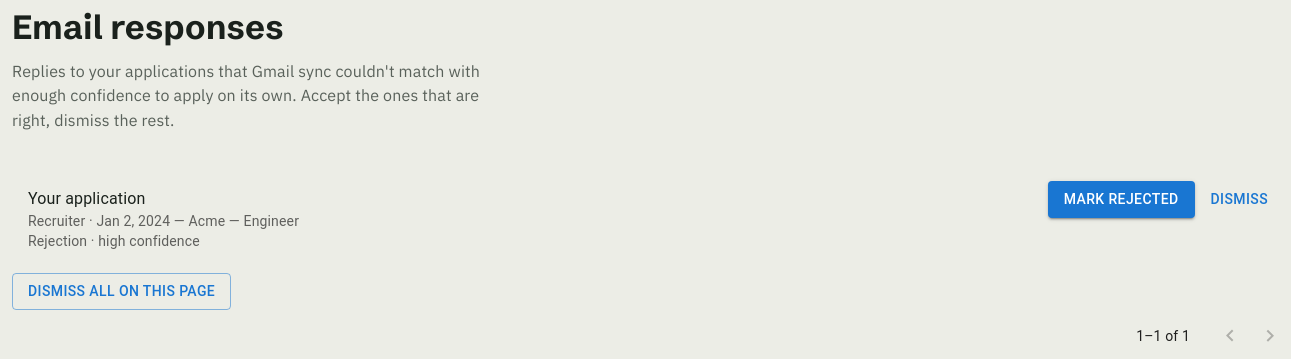
EmailResponsesPage › accept applies, reloads and announces
Expected: the text "Your application" is shown, [28,189,146,208]
Click the button with aria-label "Mark Rejected: Your application". click: (1121, 199)
box: [1048,181,1194,218]
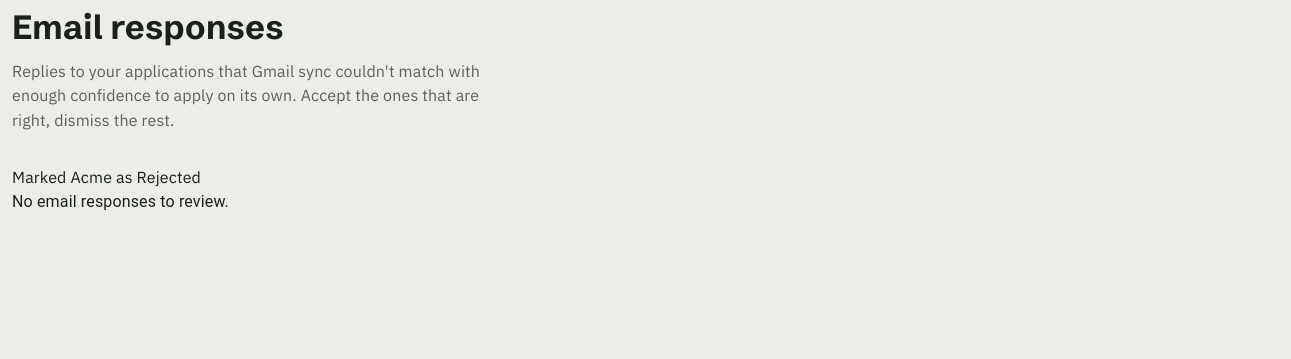
Expected: the text "No email responses to review." is shown, [12,192,229,211]
Expected: the text "Marked Acme as Rejected" is shown, [12,167,201,187]
